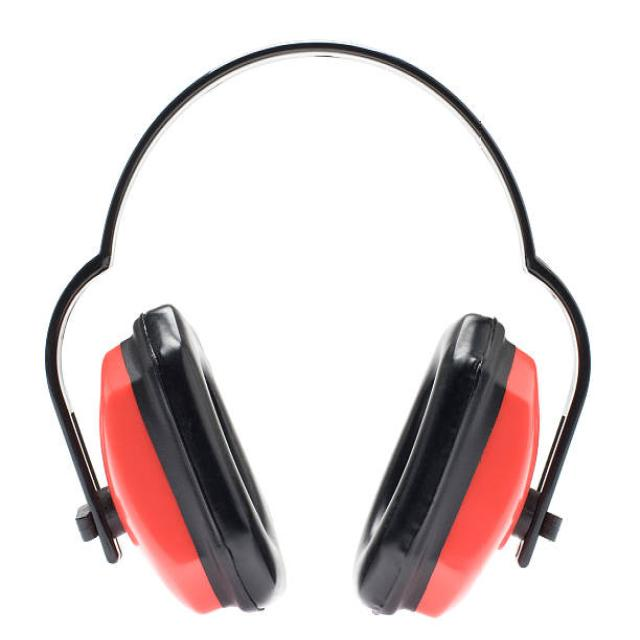Ear-protection: (21, 25, 603, 629)
